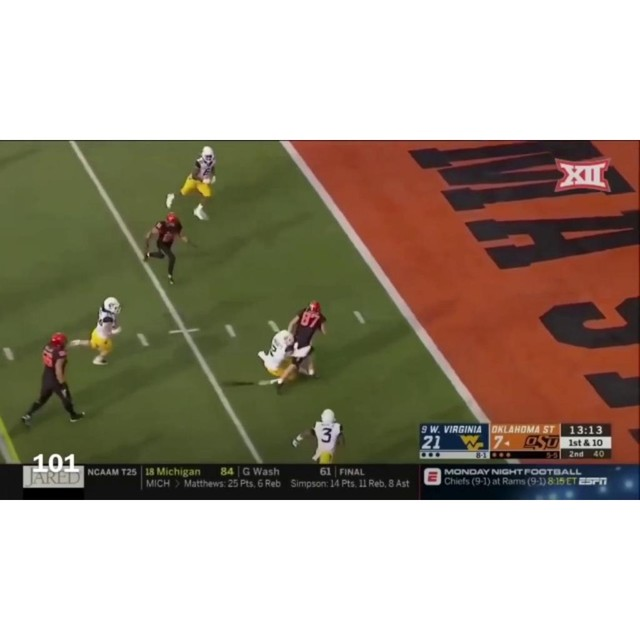american-football-player: (21, 333, 85, 427), (166, 146, 216, 221), (286, 300, 328, 382), (143, 212, 189, 285), (256, 327, 300, 394), (293, 408, 344, 464), (89, 298, 122, 365)
